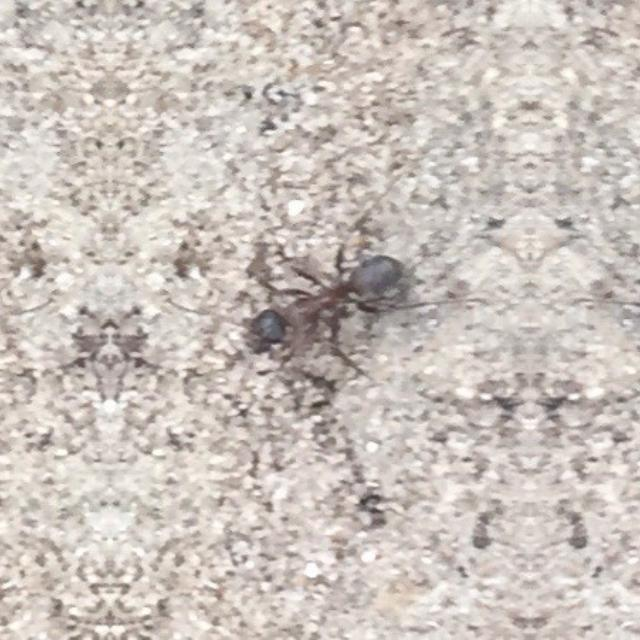Formica: (212, 215, 438, 381)
